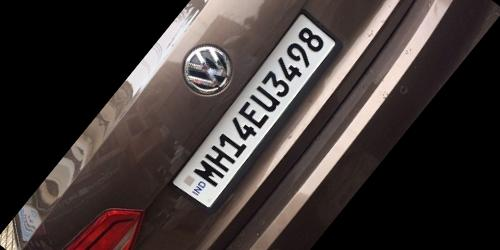plate: (163, 0, 360, 219)
